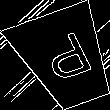P_SE: (34, 28, 97, 89)
